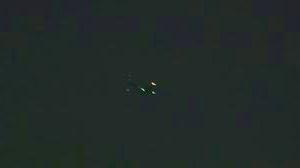Plane: (116, 69, 167, 98)
